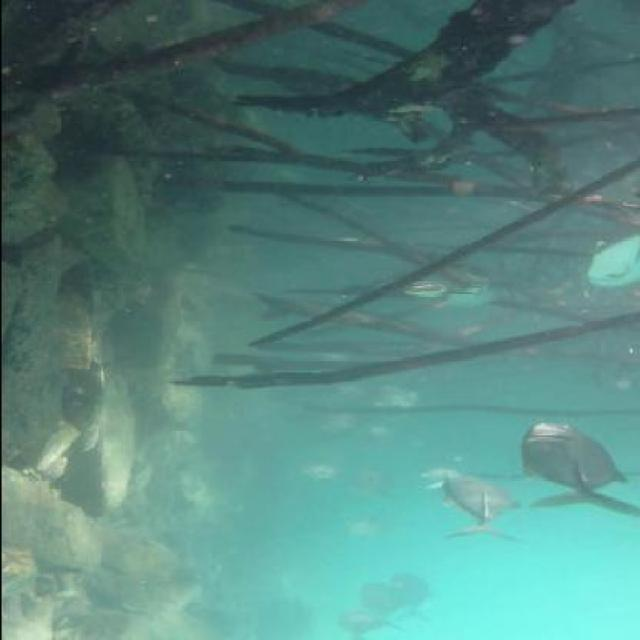Caranx_sexfasciatus_juvenile: (518, 418, 640, 516), (431, 474, 531, 541), (574, 222, 640, 306), (426, 273, 517, 318), (378, 567, 434, 625), (385, 270, 458, 307), (363, 382, 428, 418), (300, 410, 362, 447), (324, 605, 388, 638), (358, 582, 398, 633), (348, 459, 398, 499), (405, 458, 464, 491), (305, 381, 373, 407), (326, 518, 392, 540), (288, 459, 341, 486), (356, 424, 404, 453)
